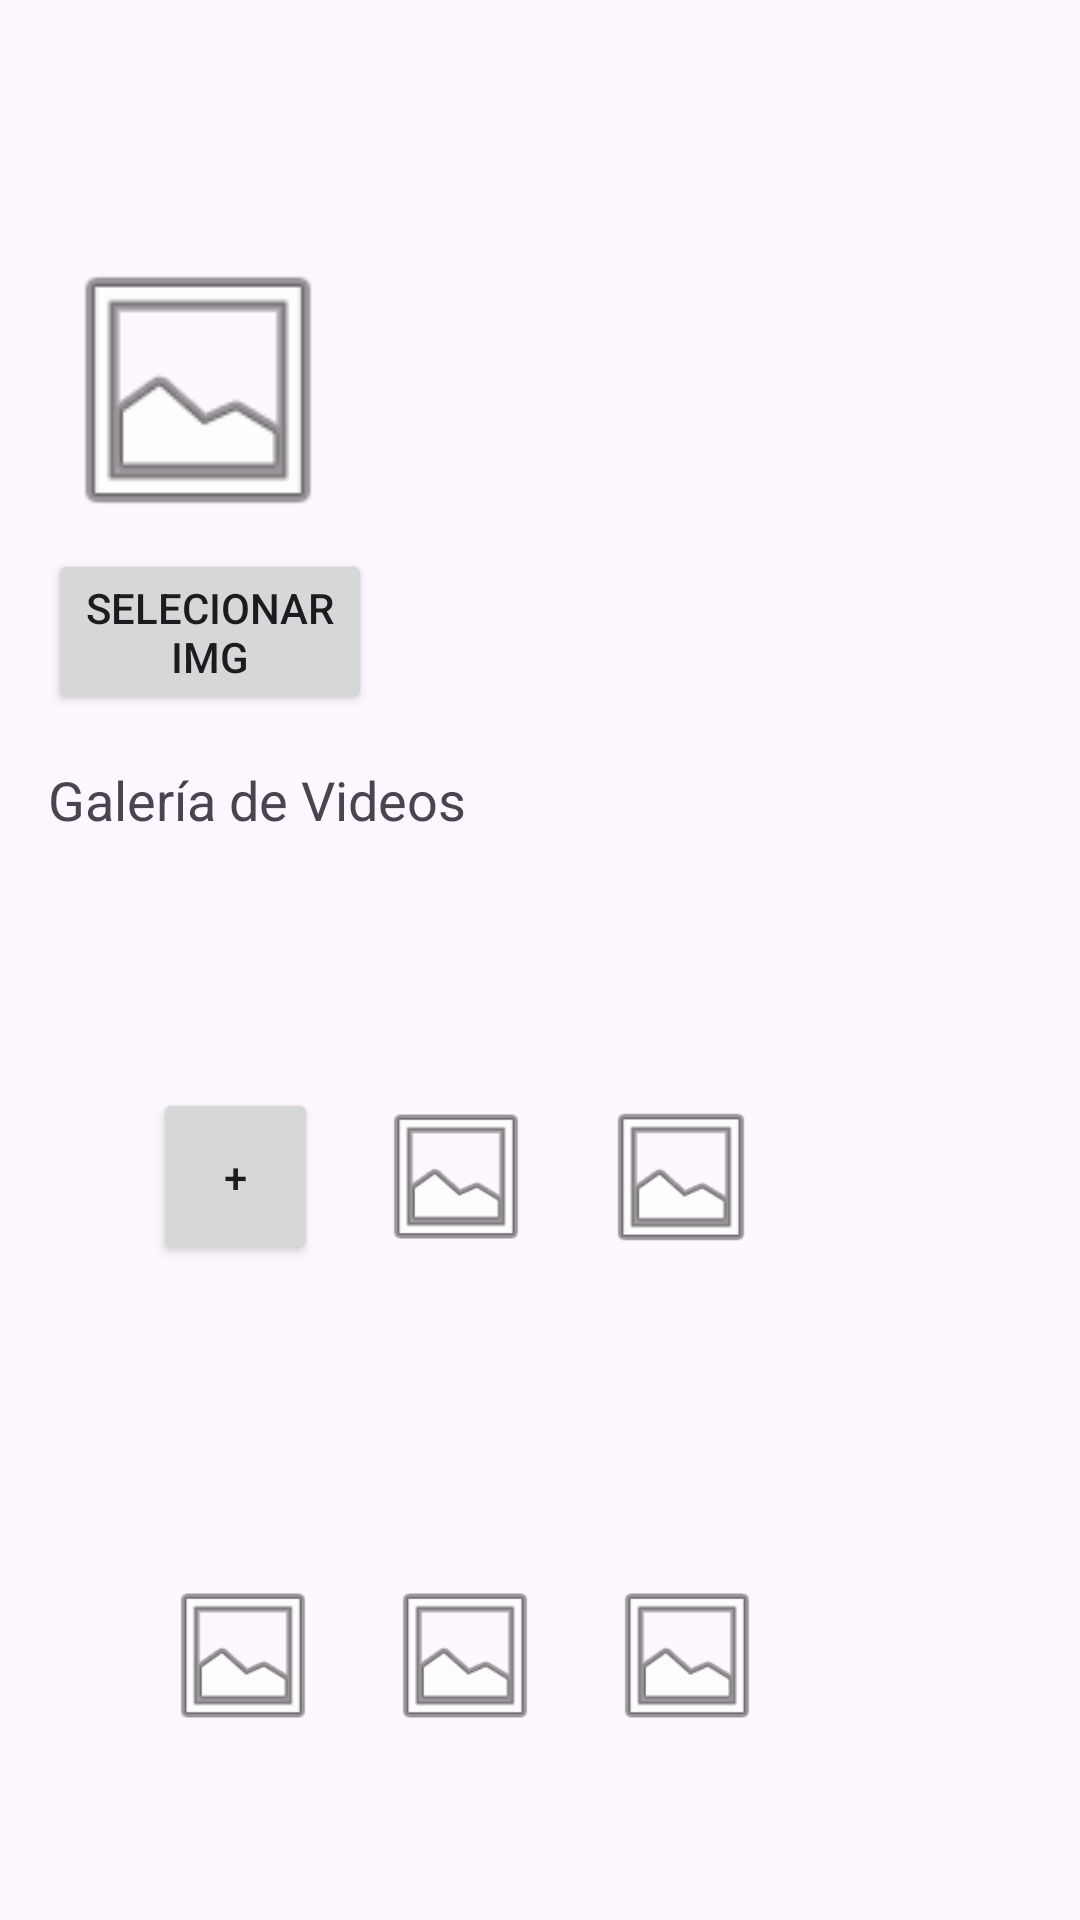

Screen size 1080*1920. Icon name, then its box in pixels as (x1, y1, x2, y2):
gallery: (85, 277, 311, 503), (618, 1113, 744, 1241), (394, 1114, 518, 1239), (181, 1593, 305, 1718), (403, 1593, 527, 1718), (625, 1593, 749, 1718)
